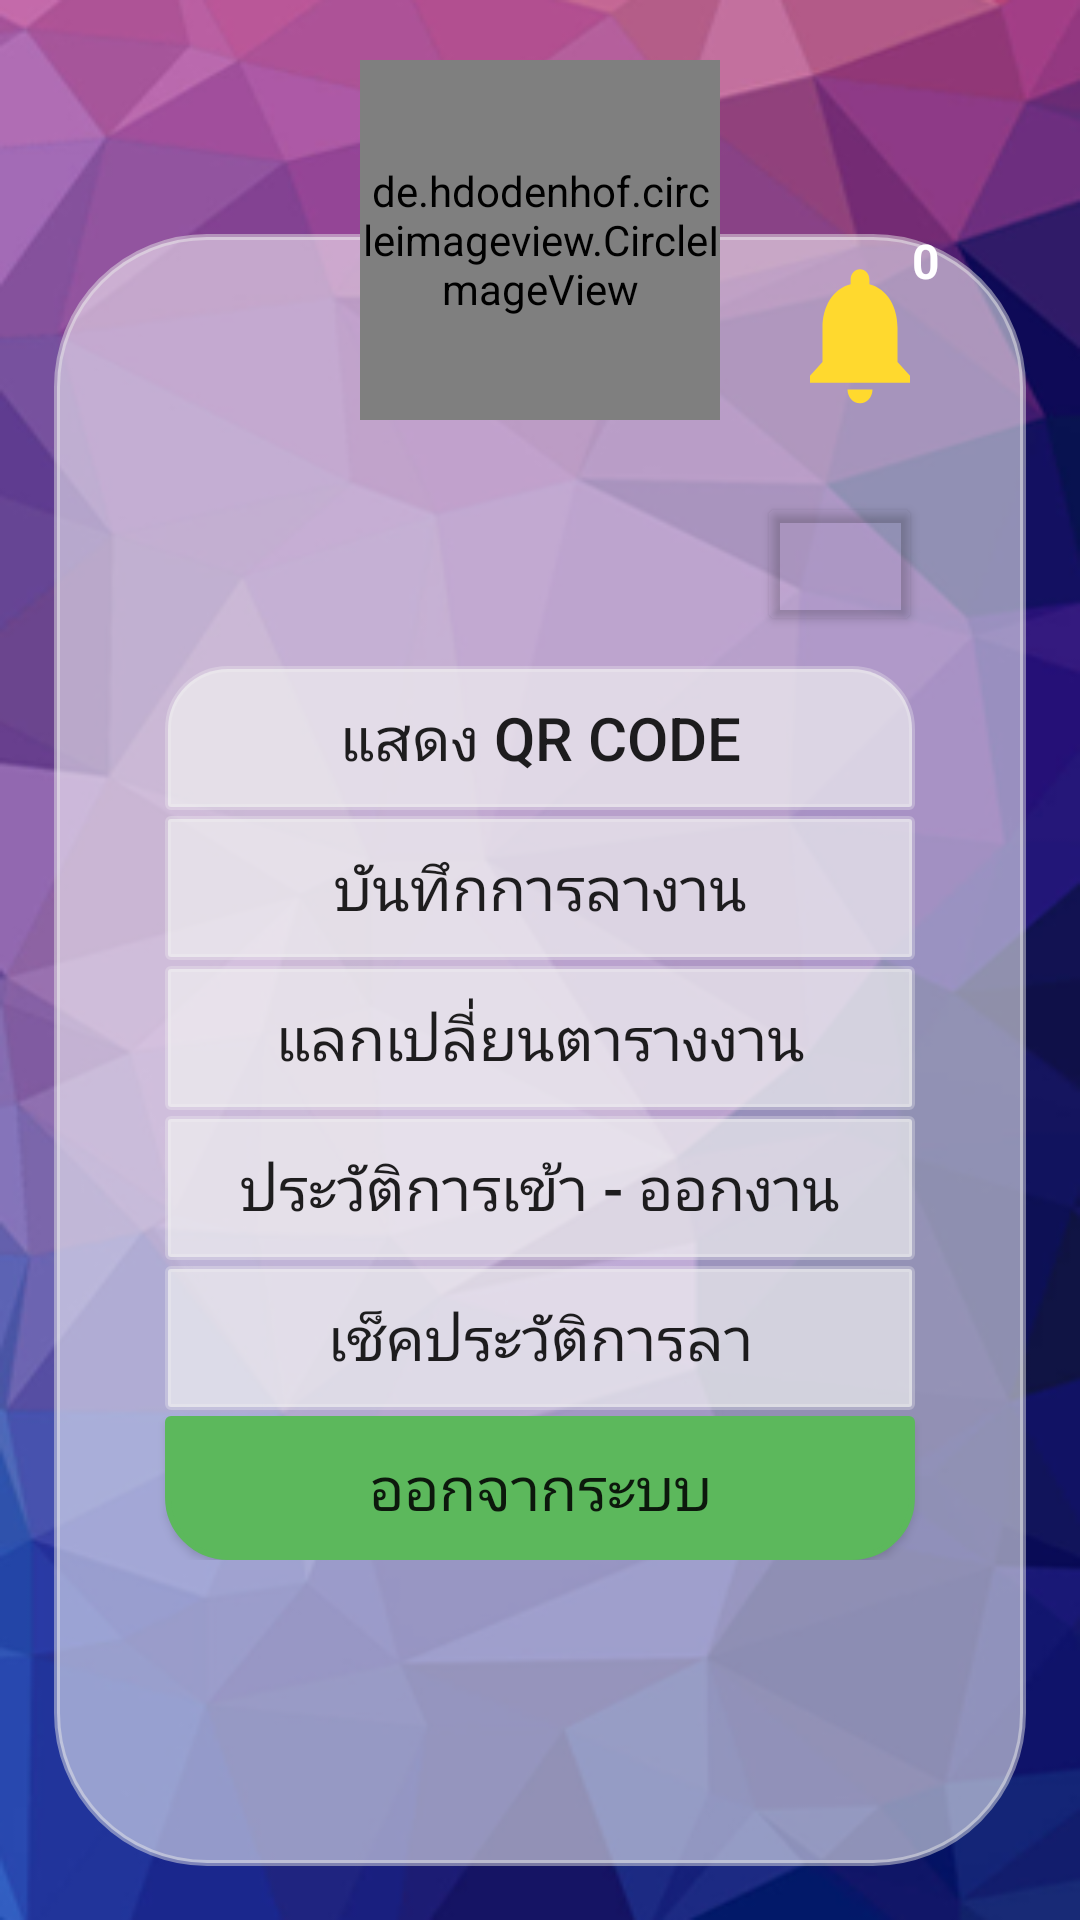

Icon click points for this 1080px x 1920px phone screenshot, format [x,y]:
notifications: [860,336]
